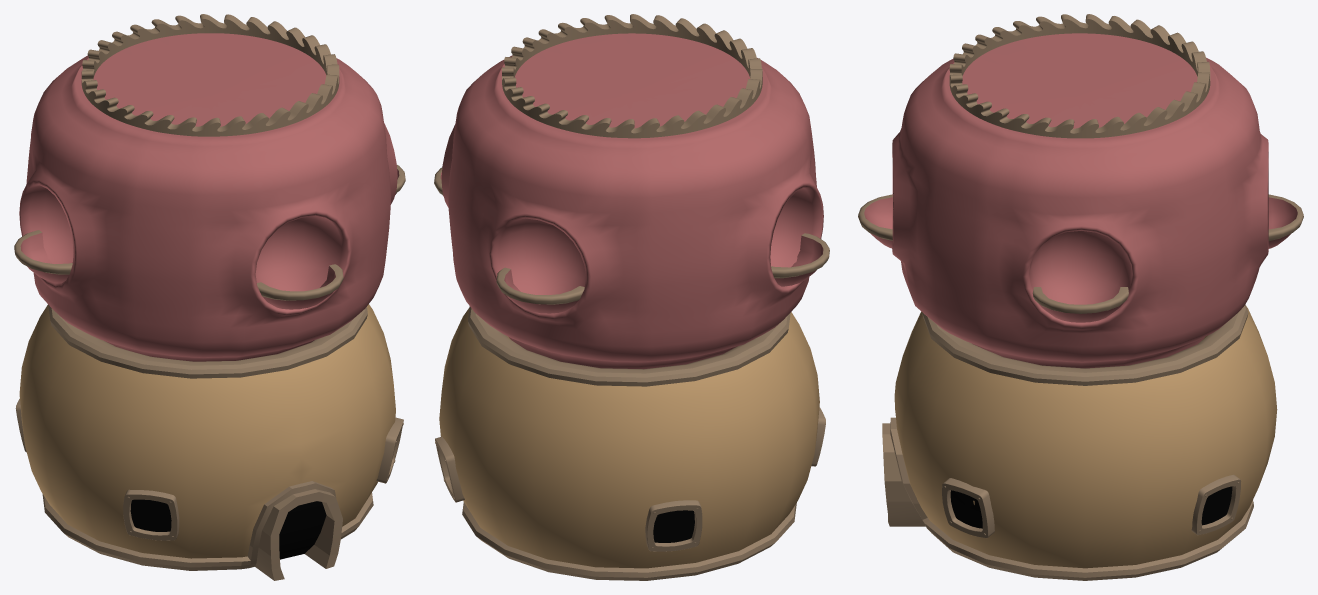
The model's file is luxury_residential_building_05.fbx.
The picture shows the model from 3 angles, left to right: view 1: azimuth 30°, elevation 25°; view 2: azimuth 150°, elevation 25°; view 3: azimuth 270°, elevation 25°; orthographic projection.
Parts seen in each view (by area): view 1: luxury_residential_building_01; view 2: luxury_residential_building_01; view 3: luxury_residential_building_01.
Part boxes in pixels (x1,y1,x2,y2): luxury_residential_building_01: [14, 14, 405, 580]; luxury_residential_building_01: [434, 14, 829, 580]; luxury_residential_building_01: [858, 14, 1303, 580].
Bounding box in the file's own units: 1293 × 1426 × 1300.
